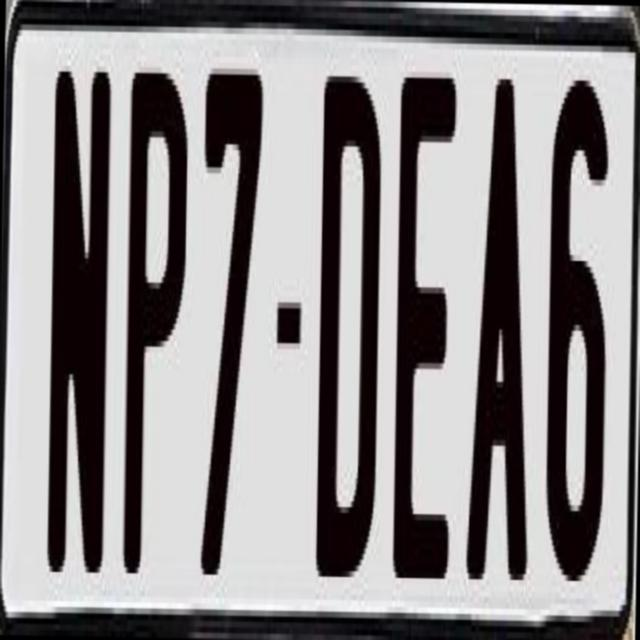6: (540, 62, 612, 593)
7: (193, 68, 266, 570)
A: (461, 61, 533, 580)
D: (314, 75, 387, 578)
E: (390, 77, 456, 579)
N: (42, 65, 107, 590)
P: (117, 55, 193, 568)
